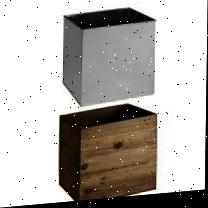cube: (58, 105, 158, 204), (62, 8, 157, 108)
